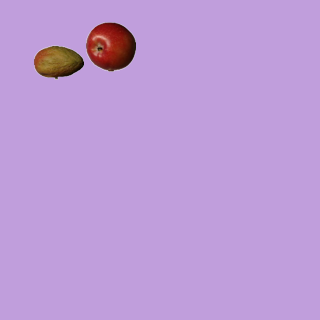Apple Braeburn: (85, 21, 135, 71)
Papaya: (33, 37, 83, 87)
